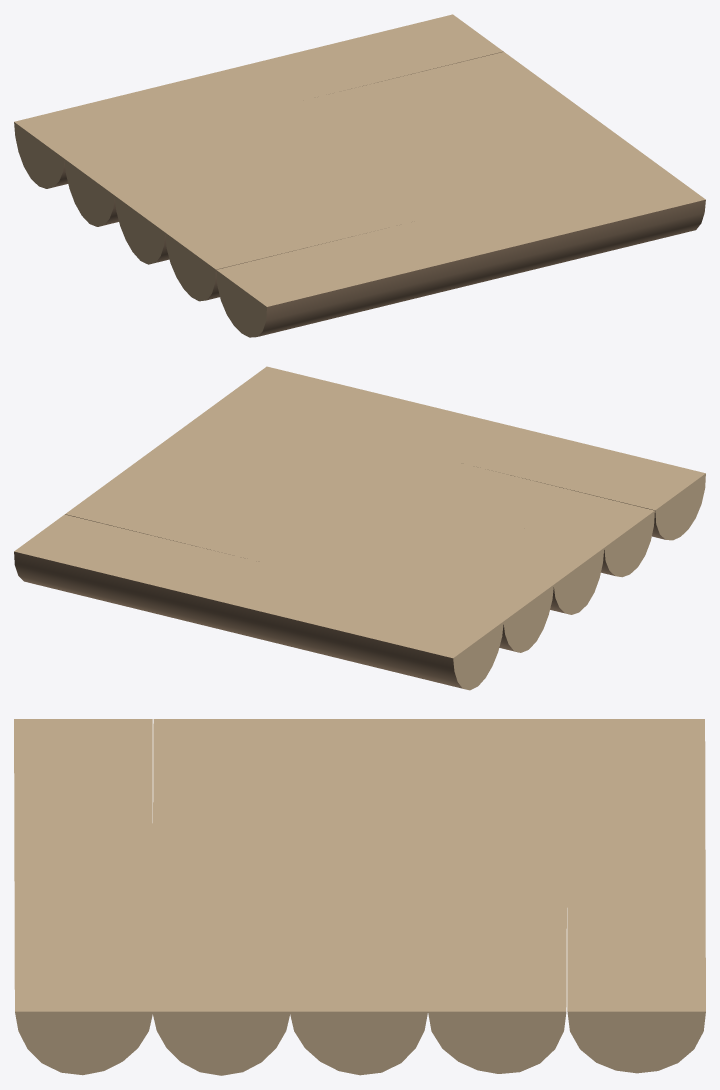
Rendered from log_floor_quarter.glb.
3 renders of one model, top to bottom at view 1: azimuth 30°, elevation 25°; view 2: azimuth 150°, elevation 25°; view 3: azimuth 270°, elevation 25°, orthographic. The views are drawn at different scales.
Visible parts, largest first — view 1: Floor; view 2: Floor; view 3: Floor.
Part boxes in pixels (x1,y1,x2,y2): Floor: [14, 14, 705, 337]; Floor: [14, 366, 705, 690]; Floor: [14, 719, 705, 1075].
Size of the model in its own units: 1.5 by 0.153 by 1.5.
